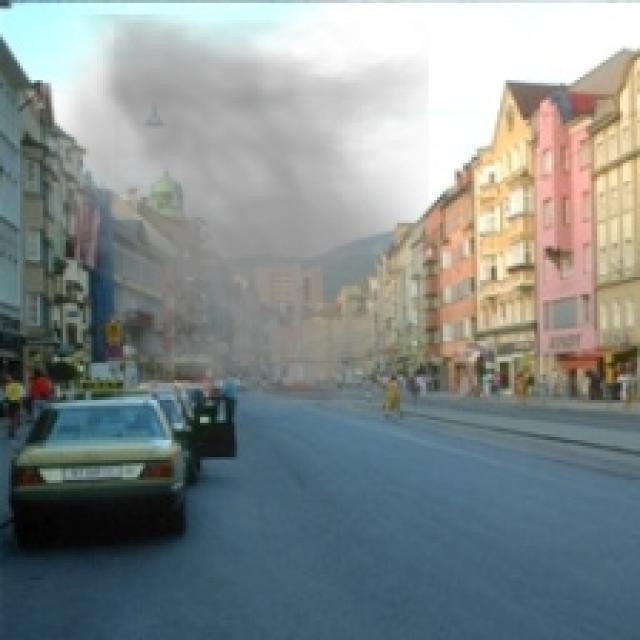smoke: (23, 14, 428, 417)
